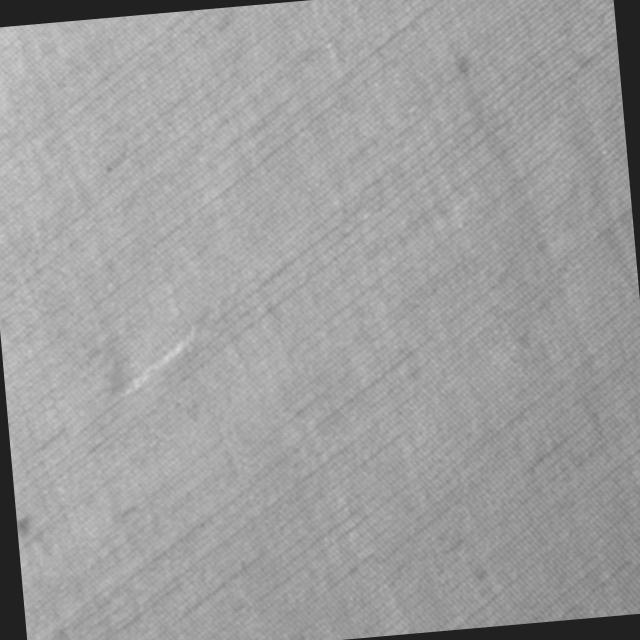thread error: (100, 317, 210, 403)
